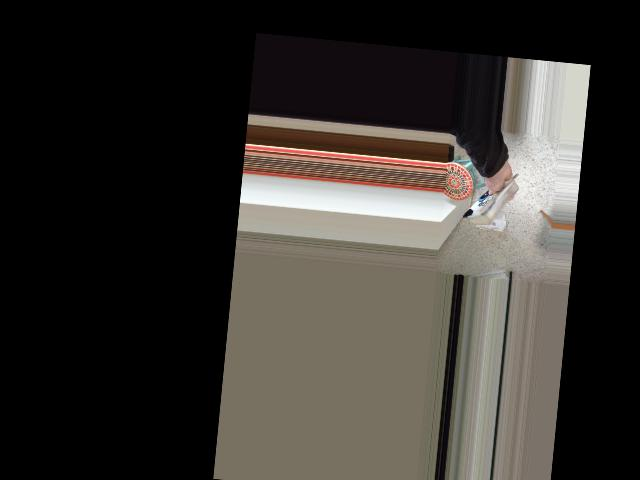cheese: (453, 158, 527, 238)
